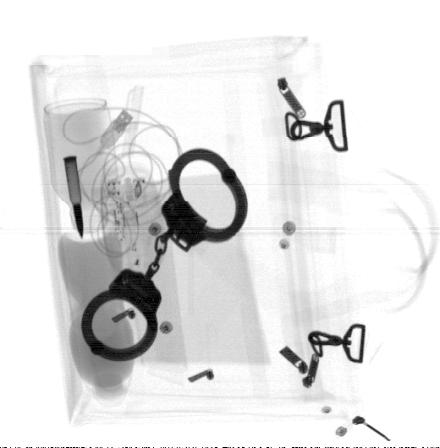Bullet: (63, 154, 83, 240)
HandCuffs: (80, 146, 250, 361)
